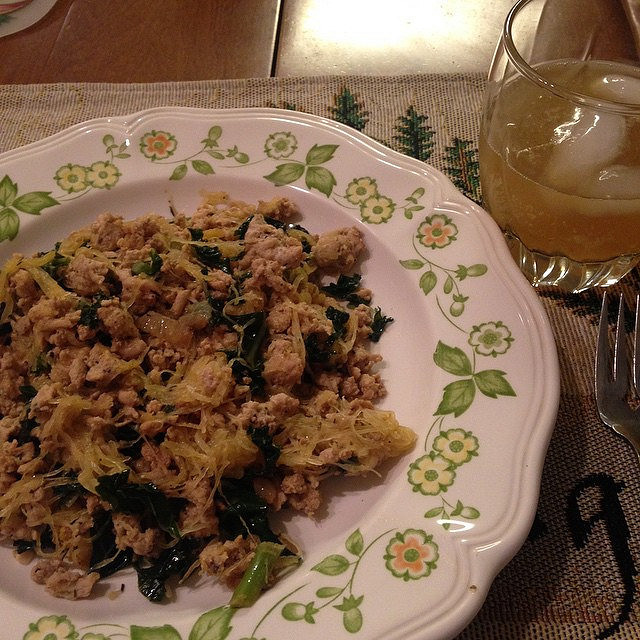glass of water: (483, 1, 636, 266)
